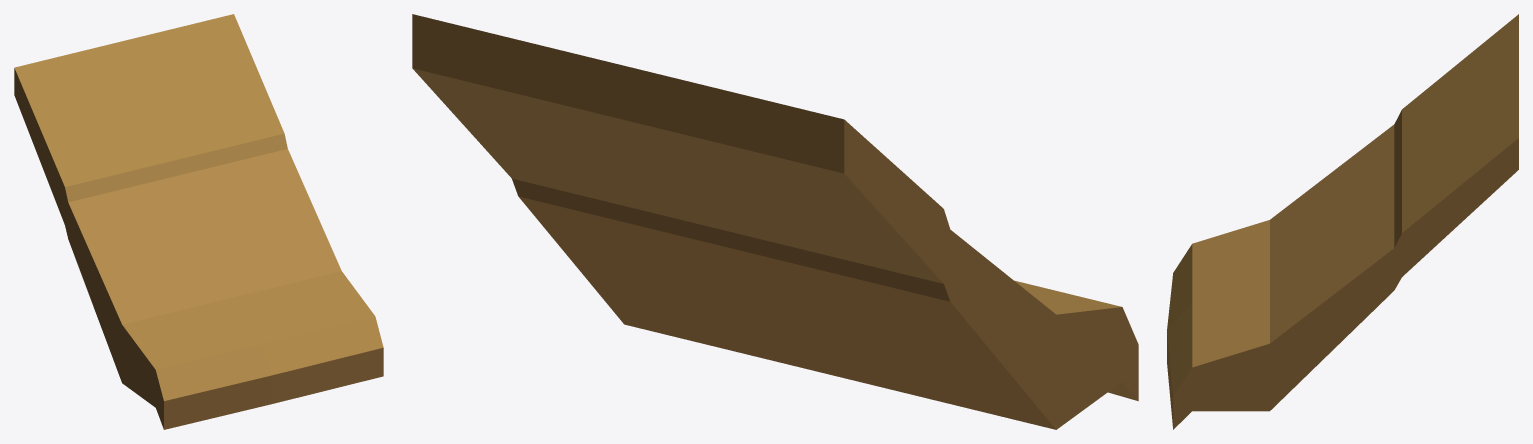
The model's file is thatched_pitch.glb.
3 renders of one model, left to right at view 1: azimuth 30°, elevation 25°; view 2: azimuth 150°, elevation 25°; view 3: azimuth 270°, elevation 25°, orthographic. The views are drawn at different scales.
Visible parts, largest first — view 1: Thatched pitch; view 2: Thatched pitch; view 3: Thatched pitch.
Part boxes in pixels (left/top/right/bottom): Thatched pitch: left=14, top=14, right=383, bottom=429; Thatched pitch: left=412, top=14, right=1138, bottom=429; Thatched pitch: left=1167, top=14, right=1518, bottom=429.
Size of the model in its own units: 1 by 1.1 by 1.2.
